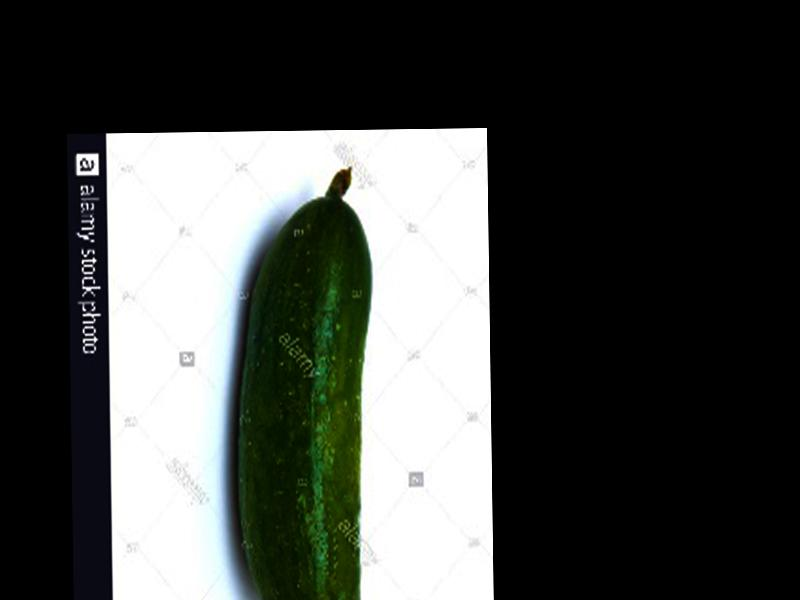Cucumber: (233, 167, 377, 600)
